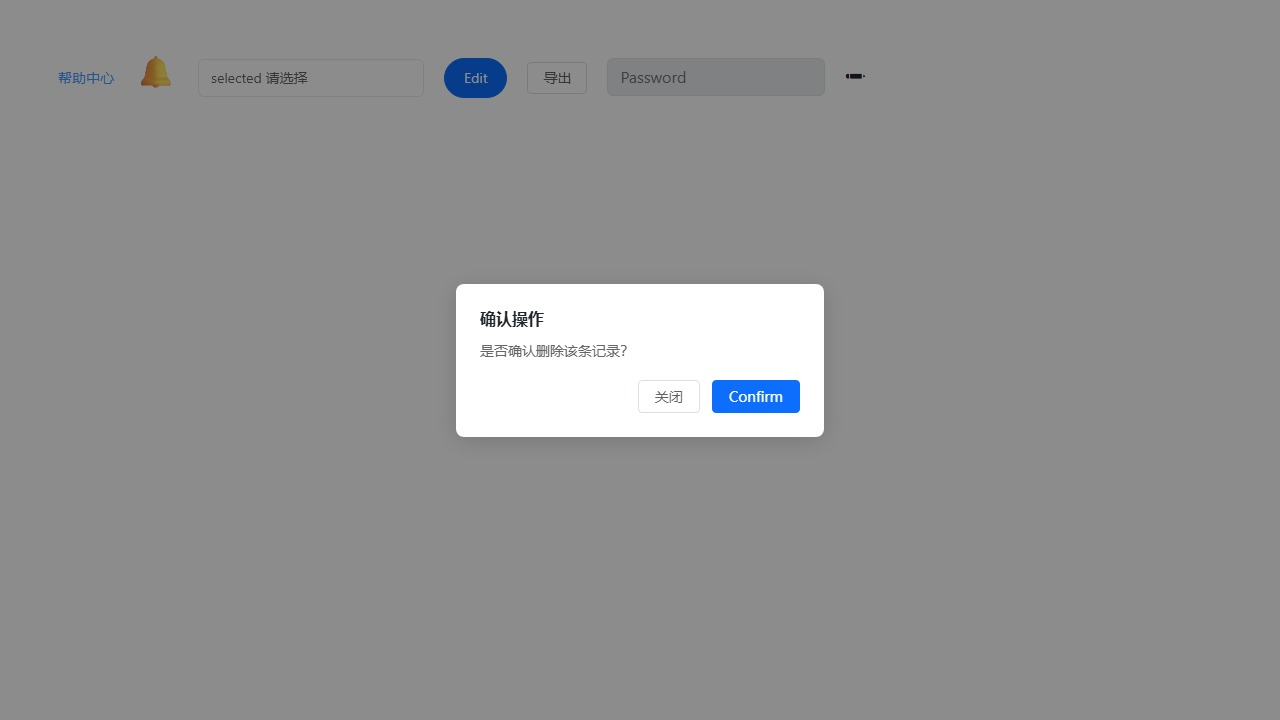button: (712, 380, 800, 412), (444, 58, 507, 98), (638, 380, 700, 412), (527, 62, 587, 94)
icon: (134, 54, 178, 86), (845, 65, 865, 85)
input: (607, 57, 825, 96)
link: (58, 68, 114, 87)
modal: (0, 0, 1280, 720)
select: (198, 58, 424, 97)
